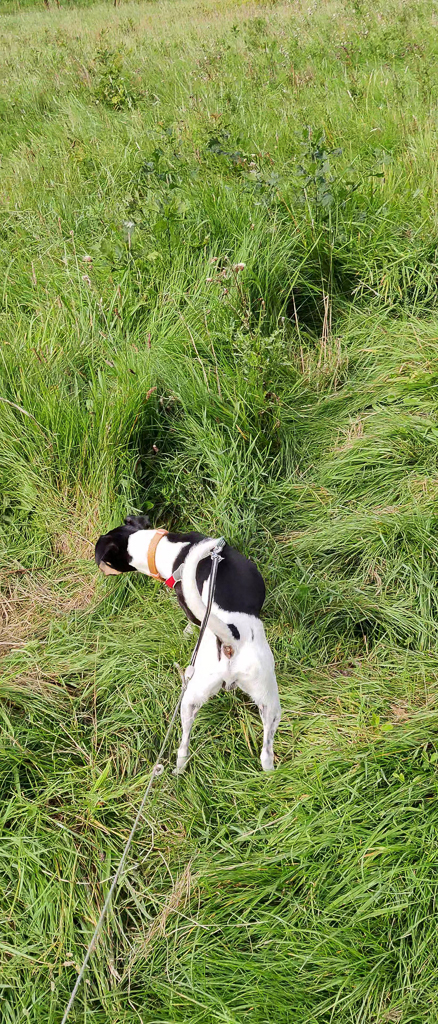Dog: (73, 499, 302, 789)
